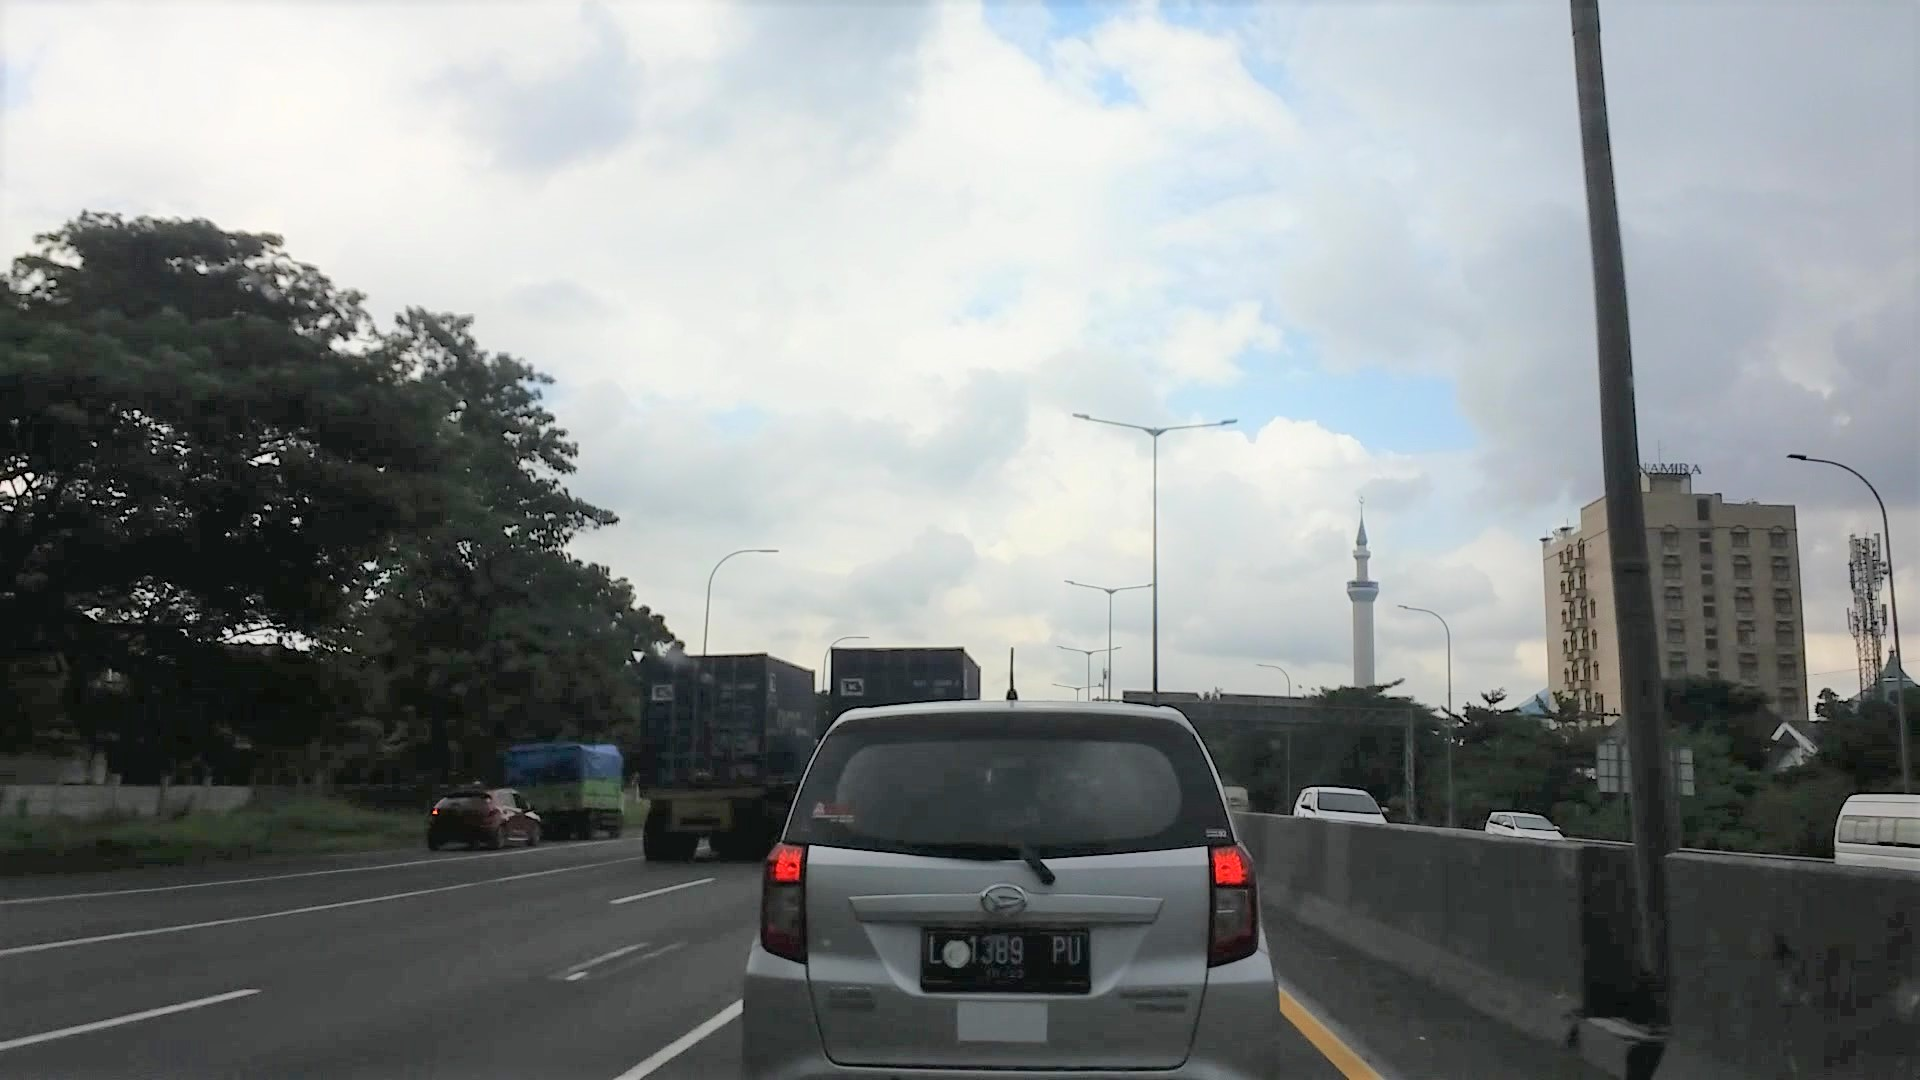plate_positive: (920, 926, 1092, 994)
